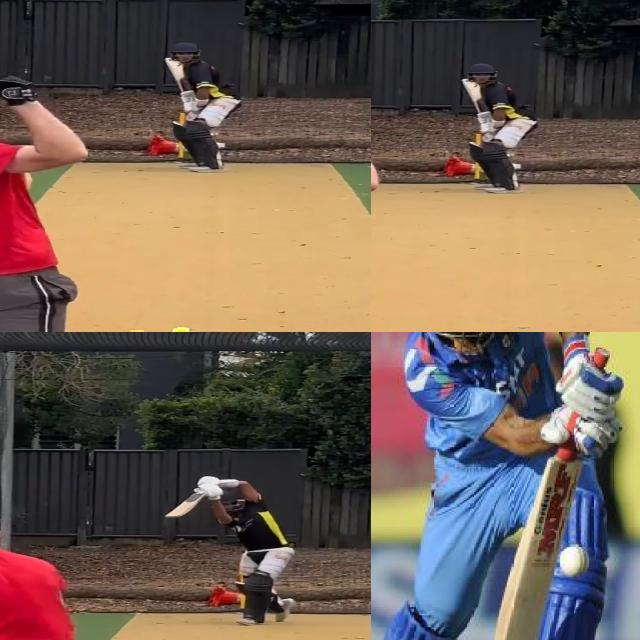Cricket ball: (560, 539, 592, 584)
